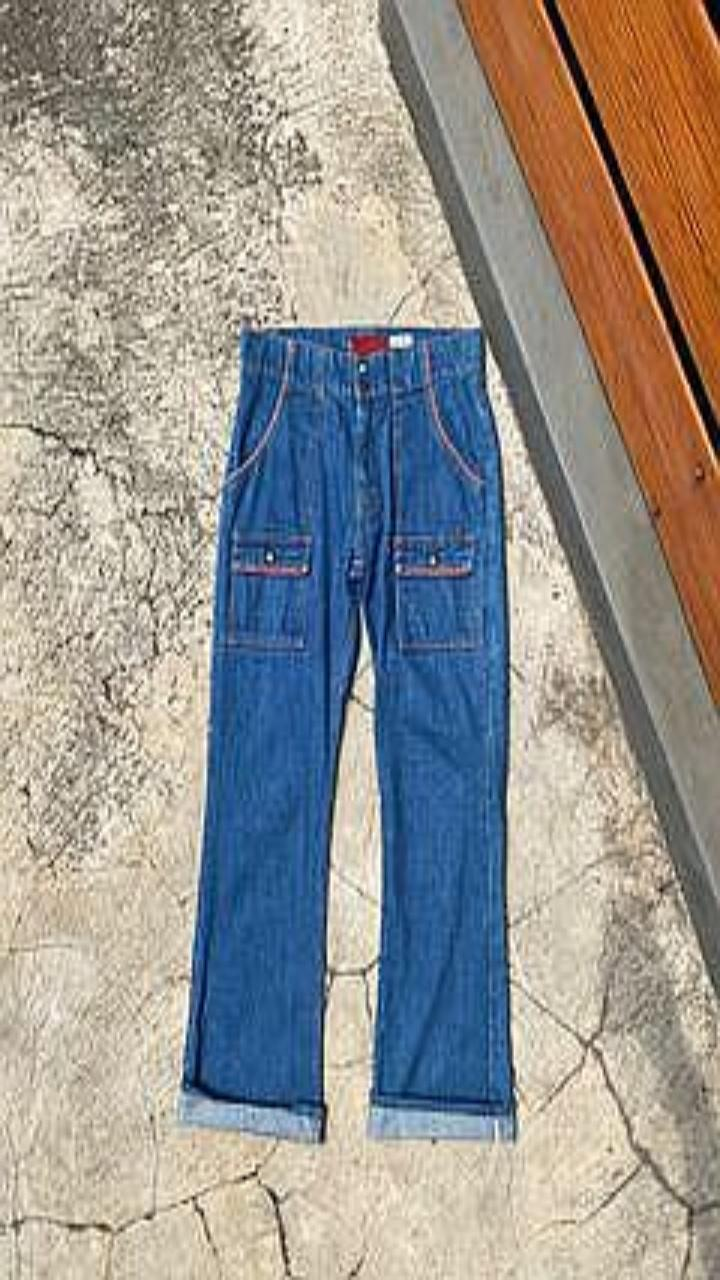Jeans: (177, 324, 515, 1140)
